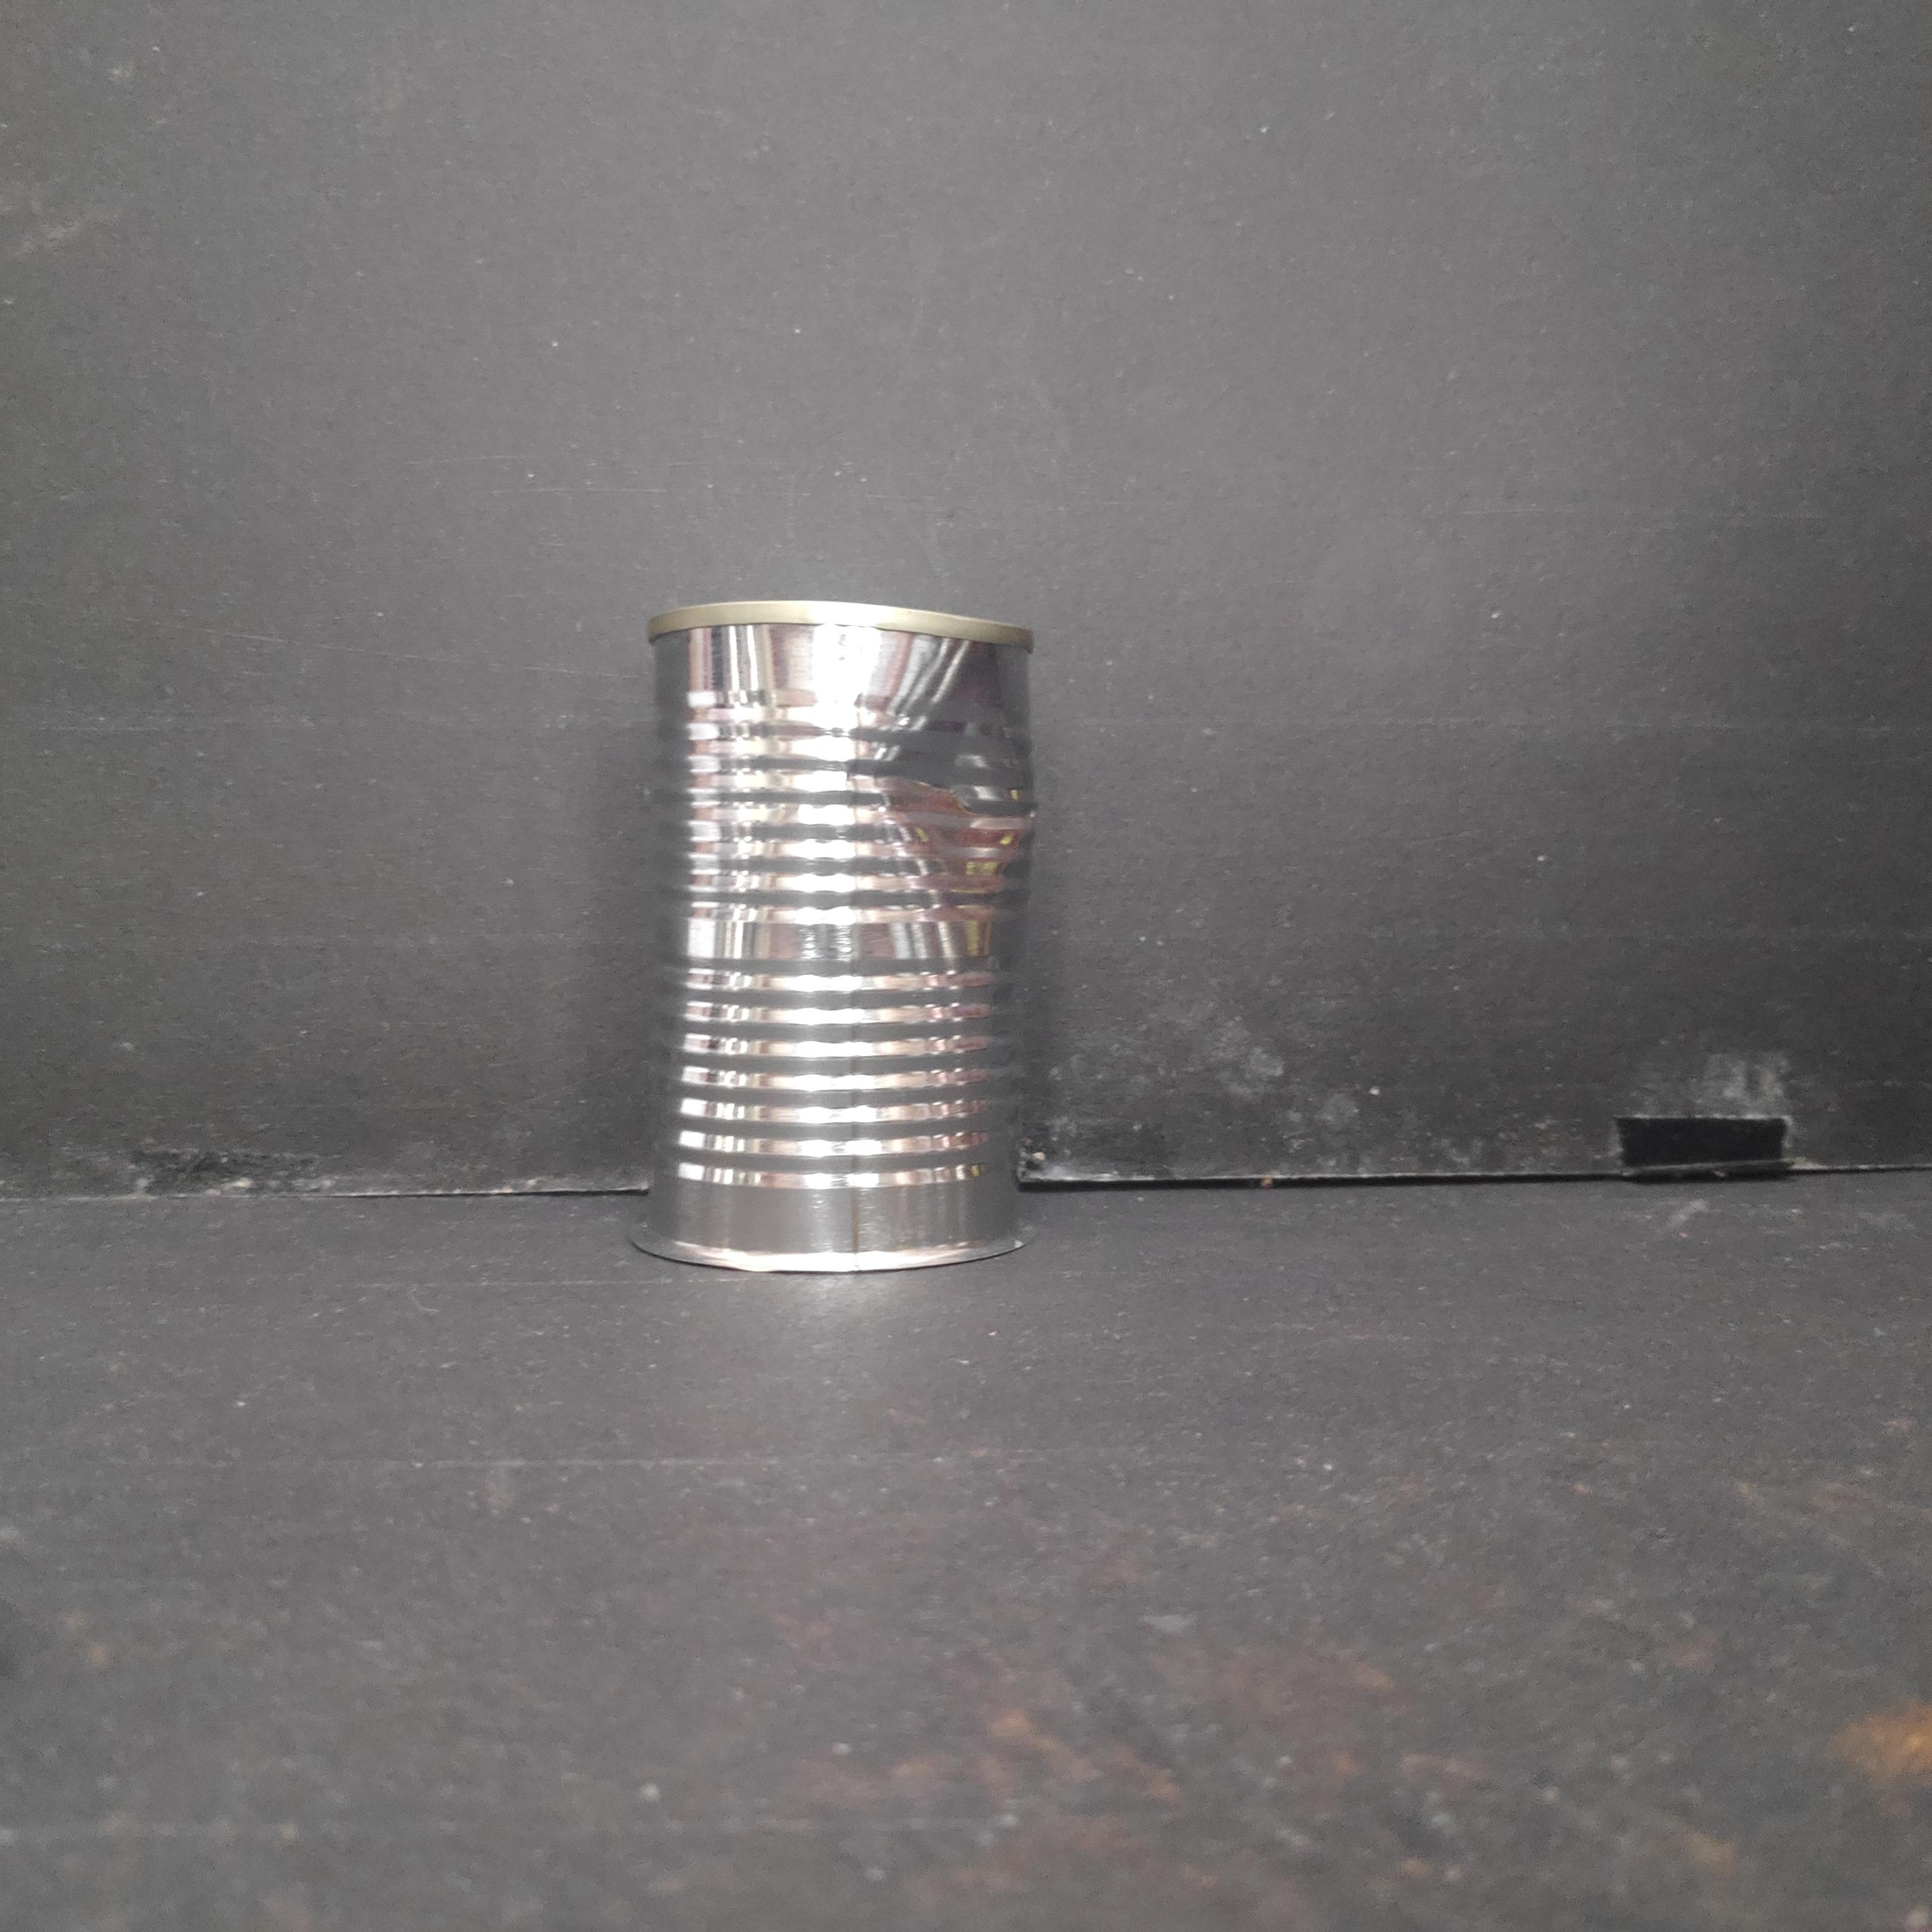Minor Defect: (624, 588, 1054, 1294)
